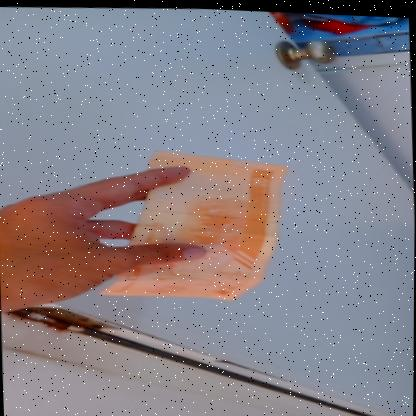twenty-back-vef: (93, 142, 290, 307)
